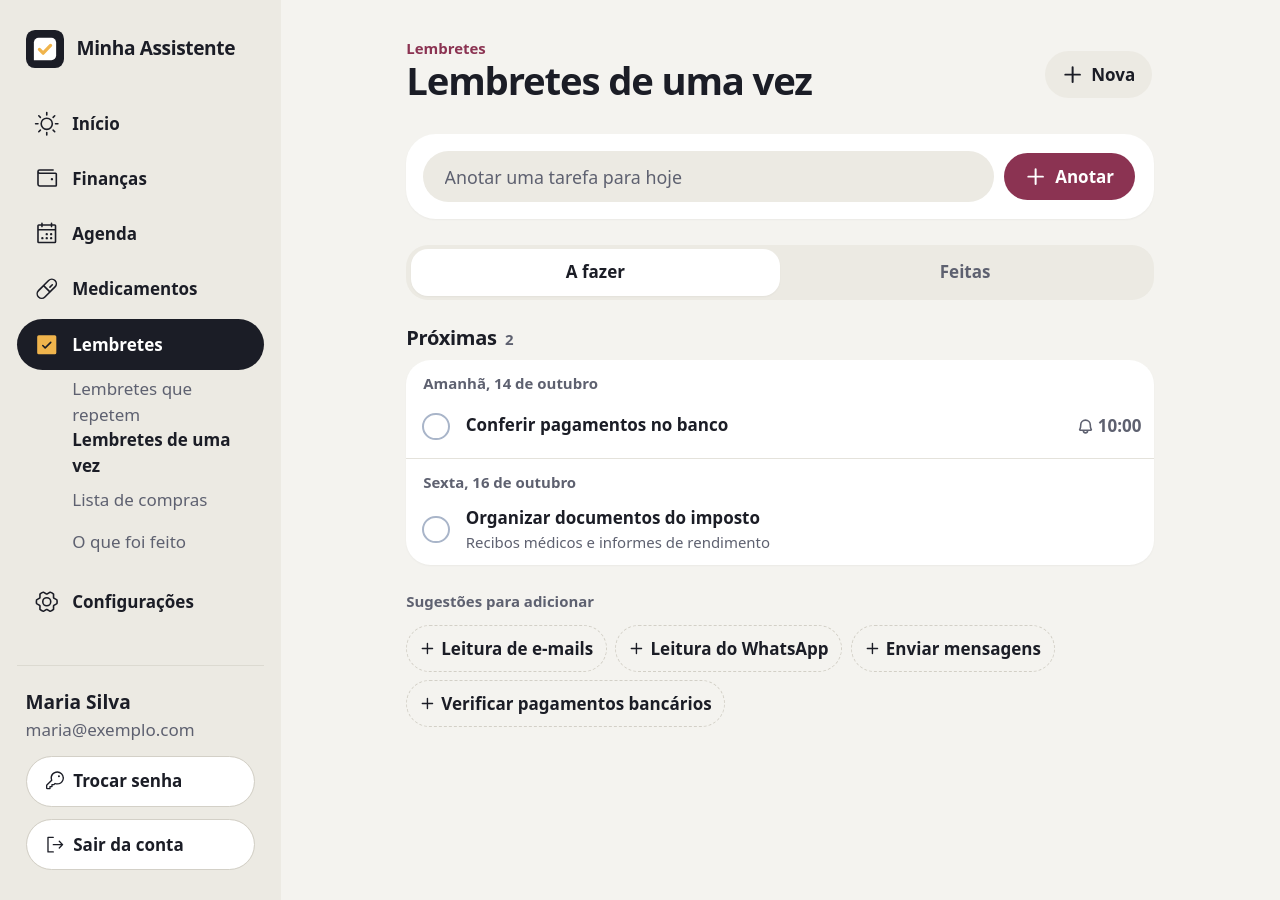
Test: O que foi feito › concluir uma tarefa aparece no total sem recarregar a página
Click the button named "Marcar Conferir pagamentos no banco como feita": {"x": 436, "y": 426} [410,401,462,452]
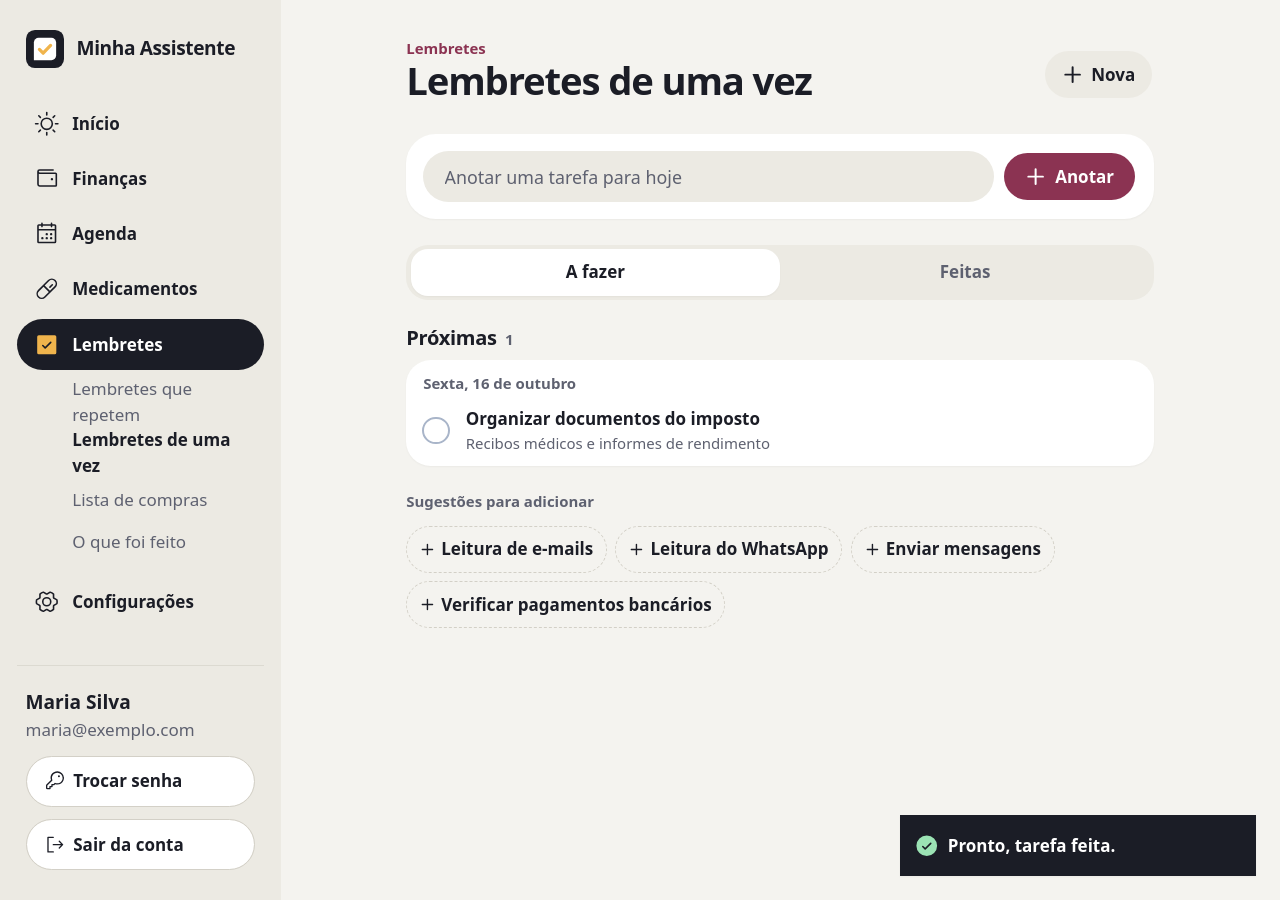
expect the text "Pronto, tarefa feita." is shown: met, box [948,832,1115,858]
Click the link "O que foi feito": {"x": 129, "y": 542} [72,530,186,553]
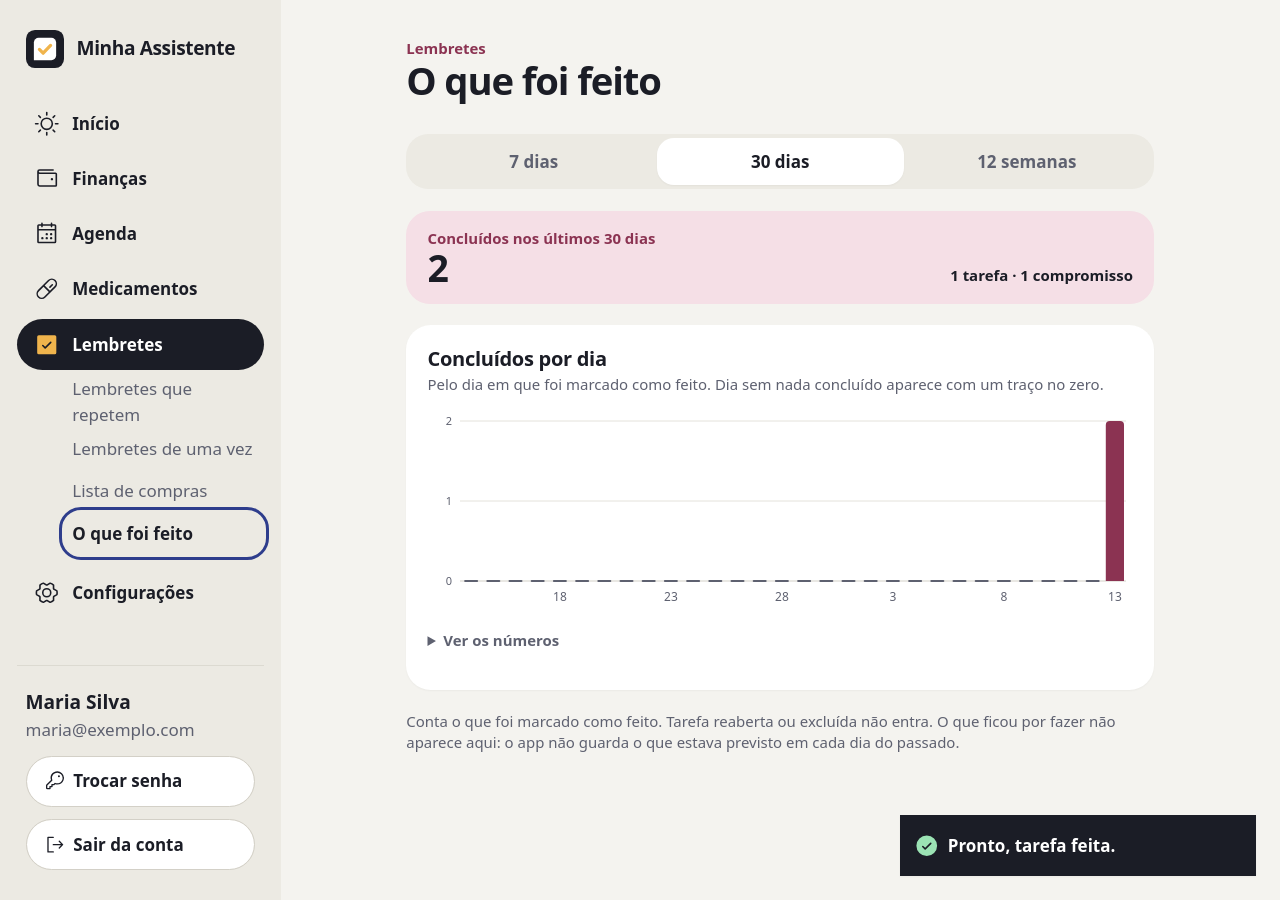
expect the element named "Total do período" shows "1 tarefa · 1 compromisso": met, box [406,211,1154,304]
